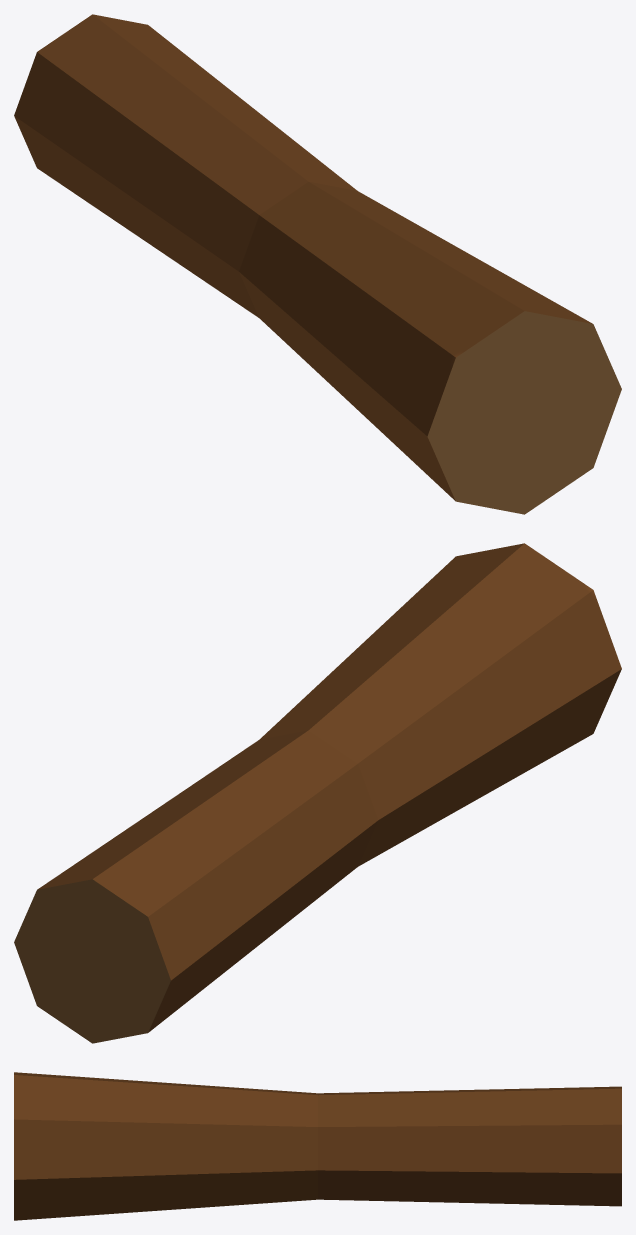
Rendered from Log_decoration.fbx.
3 renders of one model, top to bottom at view 1: azimuth 30°, elevation 25°; view 2: azimuth 150°, elevation 25°; view 3: azimuth 270°, elevation 25°, orthographic. The views are drawn at different scales.
Visible parts, largest first — view 1: Log_decoration; view 2: Log_decoration; view 3: Log_decoration.
Part boxes in pixels (x1=…): Log_decoration: x1=14, y1=14, x2=621, y2=514; Log_decoration: x1=14, y1=543, x2=621, y2=1043; Log_decoration: x1=14, y1=1072, x2=621, y2=1220.
Size of the model in its own units: 57.7 by 57.7 by 222.
